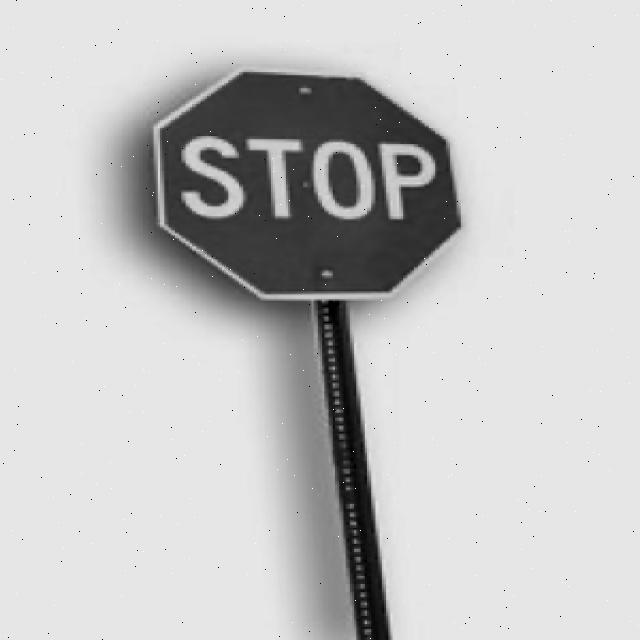Stop-signs: (161, 70, 466, 298)
